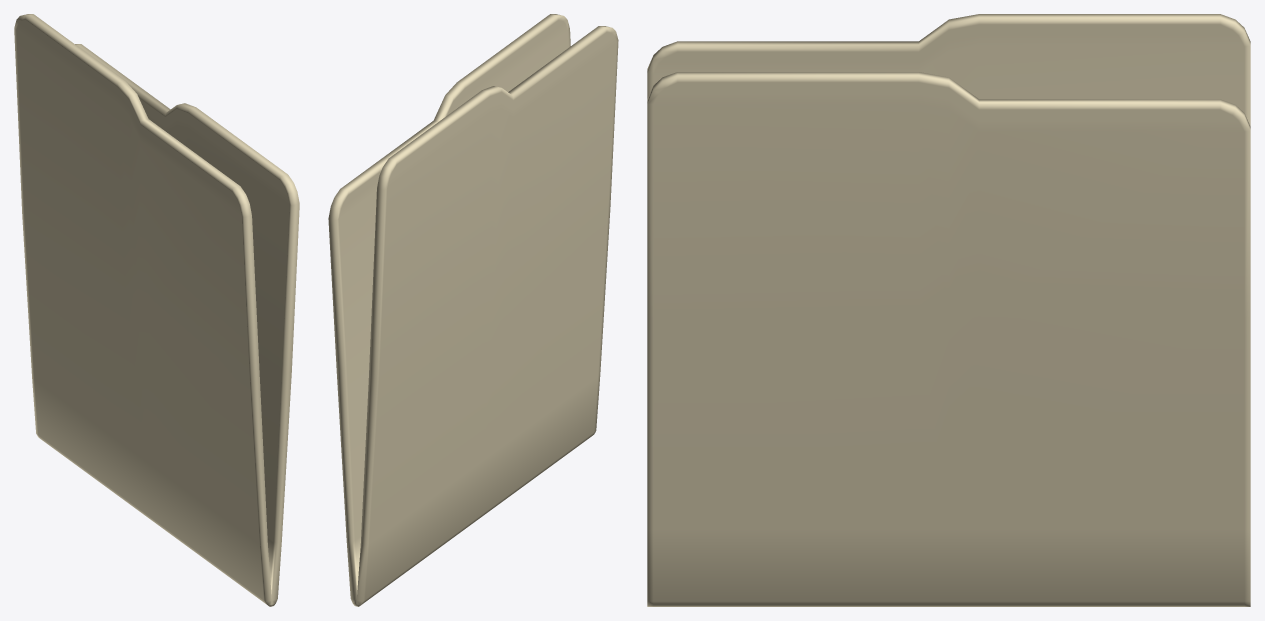
File: FolderModel.fbx
3 renders of one model, left to right at view 1: azimuth 30°, elevation 25°; view 2: azimuth 150°, elevation 25°; view 3: azimuth 270°, elevation 25°, orthographic. The views are drawn at different scales.
Parts seen in each view (by area): view 1: Cube; view 2: Cube; view 3: Cube.
Boxes of the visible parts, x1,y1,x2,y2 form: Cube: [14, 14, 299, 606]; Cube: [328, 14, 618, 606]; Cube: [647, 14, 1250, 606].
Size of the model in its own units: 200 by 28 by 210.
